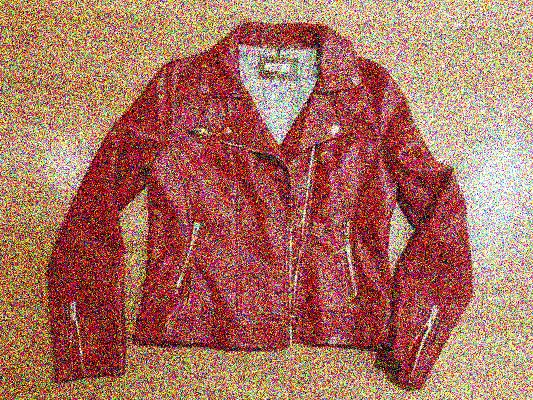Blazer: (36, 24, 510, 392)
